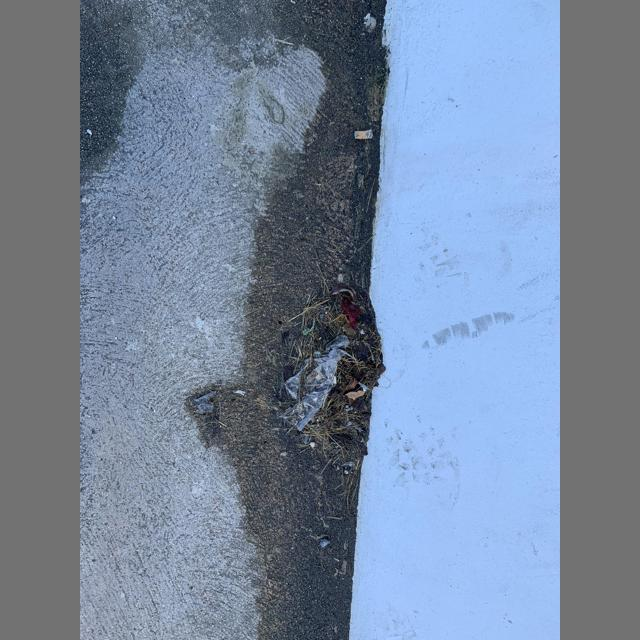litter: (278, 335, 354, 431), (340, 298, 361, 330), (354, 130, 373, 139), (333, 376, 336, 384)
